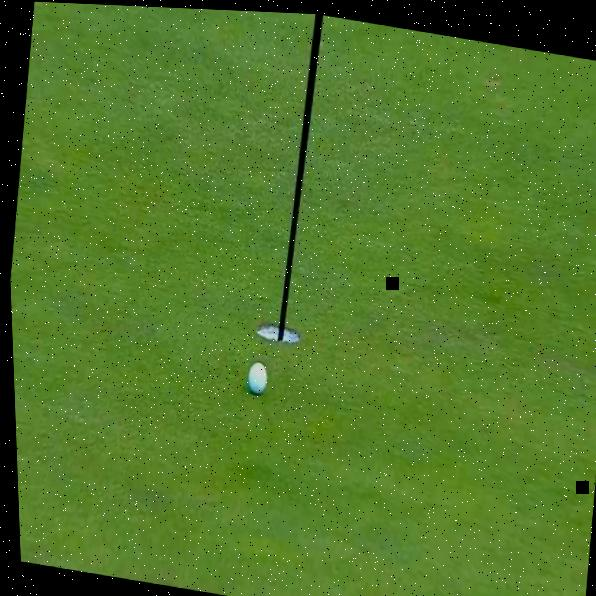GolfBall: (236, 353, 275, 398)
